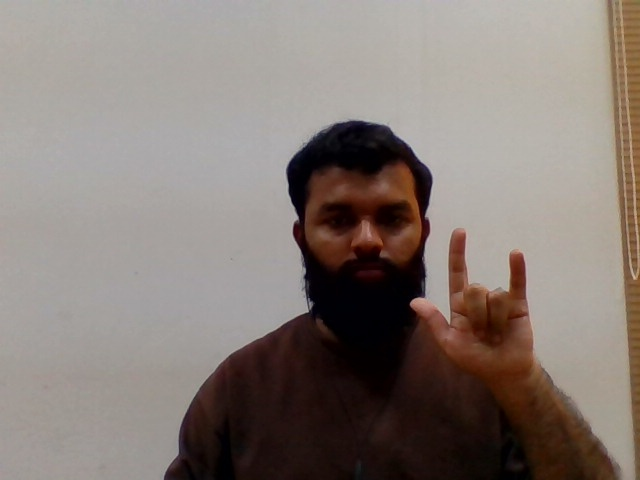I Love you: (405, 227, 574, 385)
